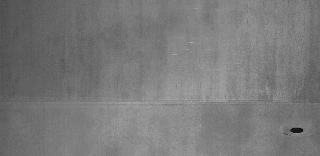punching hole: (290, 126, 306, 134)
welding line: (2, 95, 318, 109)
